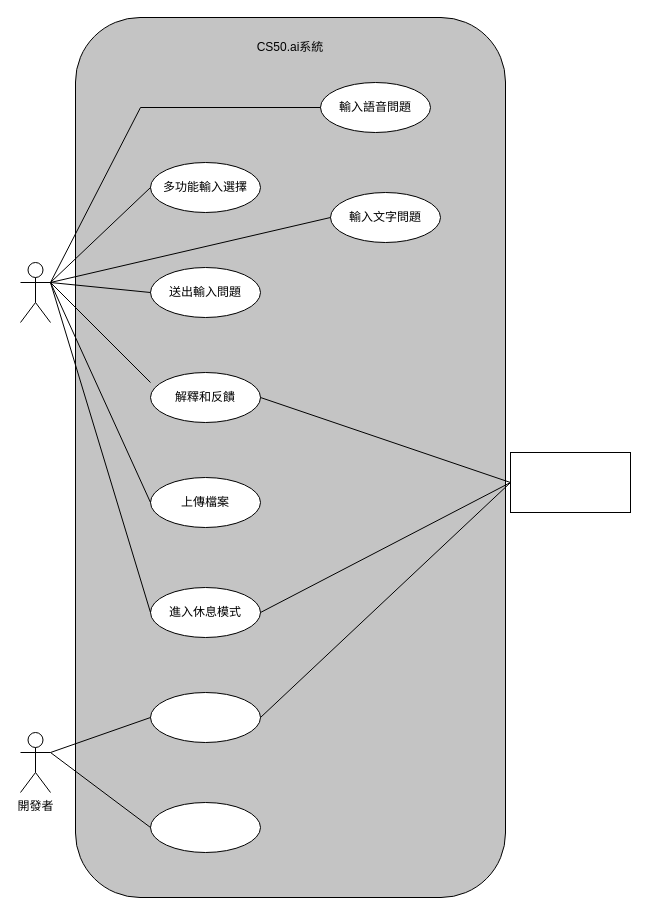
The diagram is 648 pixels wide and 915 high, and some of its shapes have lost their labels. Each missing label, with the centre of its shape:
"《 actor 》 小鴨" belongs at (570,482).
"使用者" belongs at (35,292).
"蒐集訓練資料" belongs at (205,717).
"訓練模型" belongs at (205,827).
